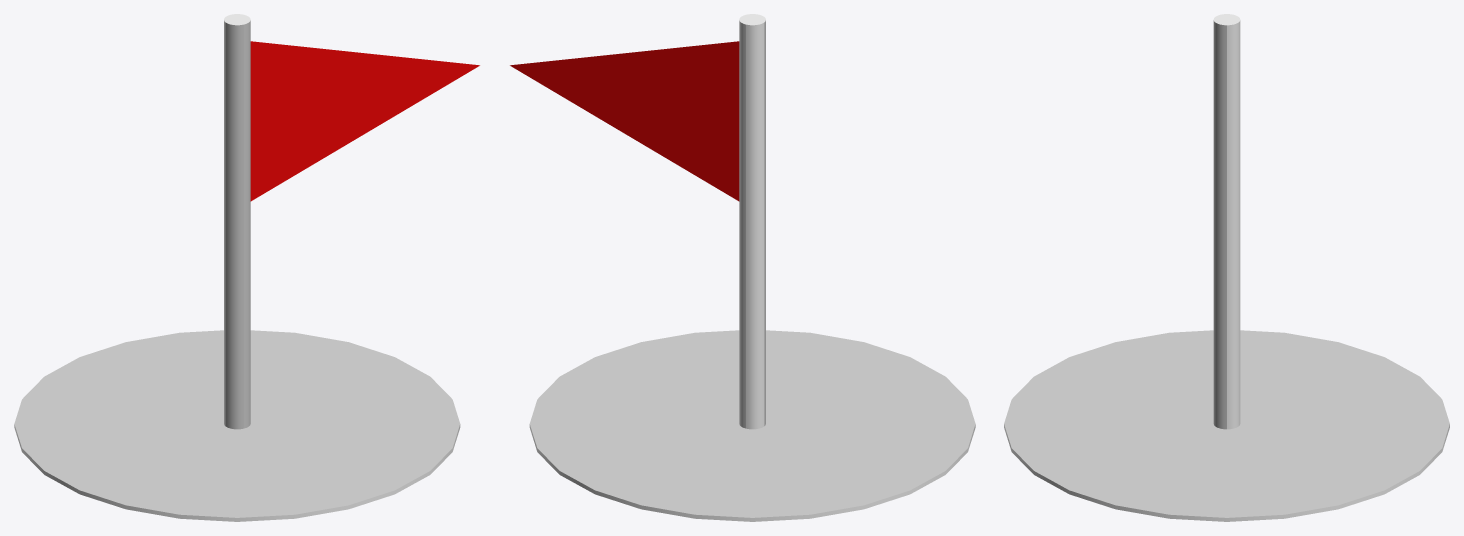
The model's file is Flag.dae.
3 renders of one model, left to right at view 1: azimuth 30°, elevation 25°; view 2: azimuth 150°, elevation 25°; view 3: azimuth 270°, elevation 25°, orthographic.
Visible parts, largest first — view 1: SketchUp (×5); view 2: SketchUp (×5); view 3: SketchUp (×4).
Part boxes in pixels (left/top/right/bottom): SketchUp (×5): left=14, top=14, right=479, bottom=521; SketchUp (×5): left=510, top=14, right=975, bottom=521; SketchUp (×4): left=1004, top=14, right=1449, bottom=521.
Bounding box in the file's own units: 2.22 × 1.97 × 1.99.
